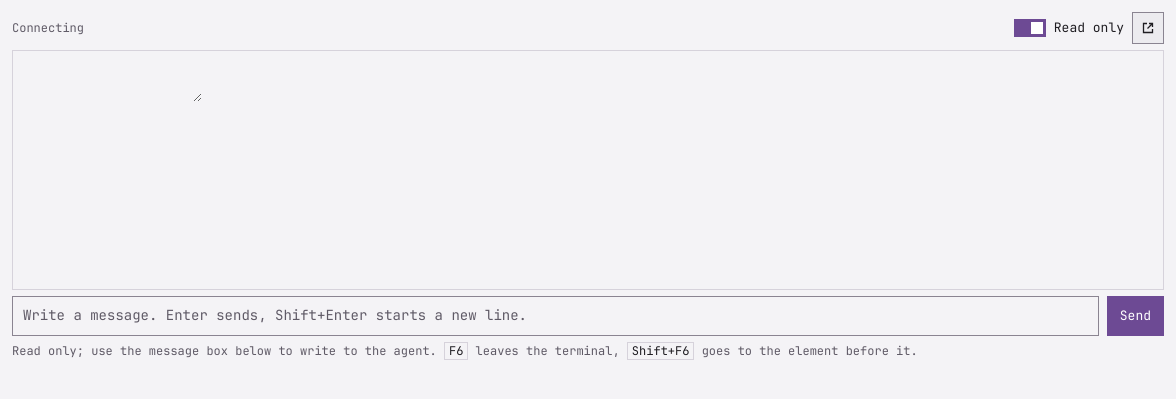
it: agent terminals › a failed send keeps the draft and shows the reason
The width and height of the screenshot is (1176, 399).
Type "keep me" into the text box with placeholder "Write a message. Enter sends, Shift+Enter starts a new line." at coordinates (555, 316), box [12,296,1099,336]
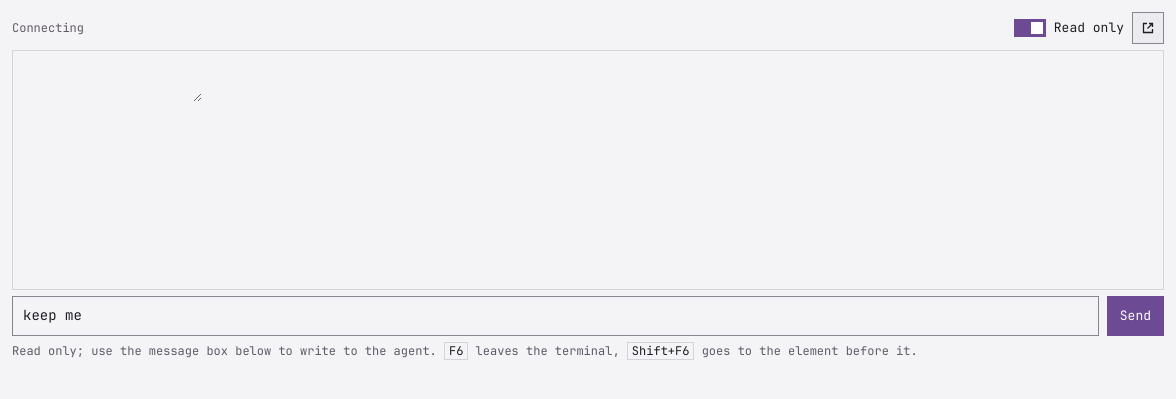
Click the button "Send" at coordinates (1135, 316), box [1107,296,1164,336]
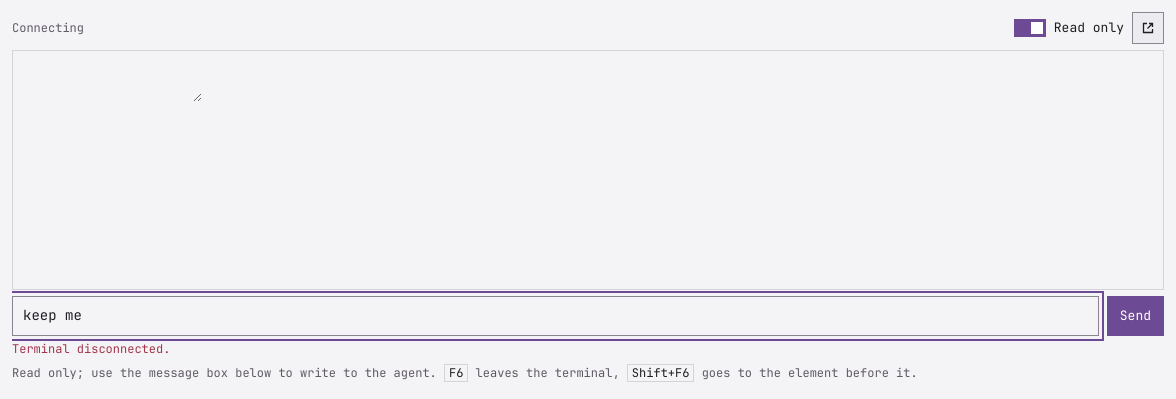
Now the message "Terminal disconnected." is shown, box [12,341,170,357]
